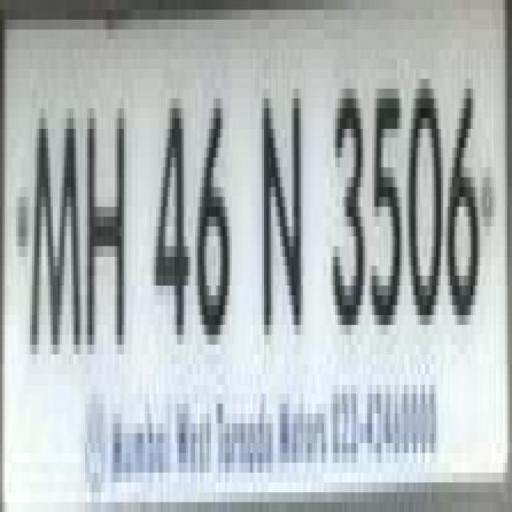number plate: (0, 19, 486, 501)
